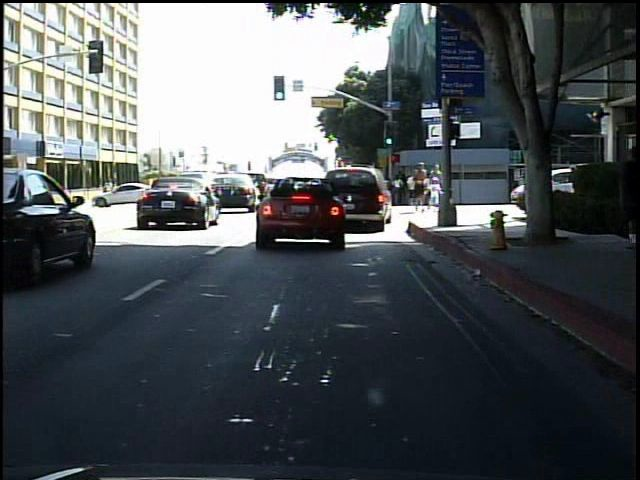person: (410, 160, 431, 213), (100, 177, 119, 204), (425, 177, 440, 209), (632, 138, 634, 251)
